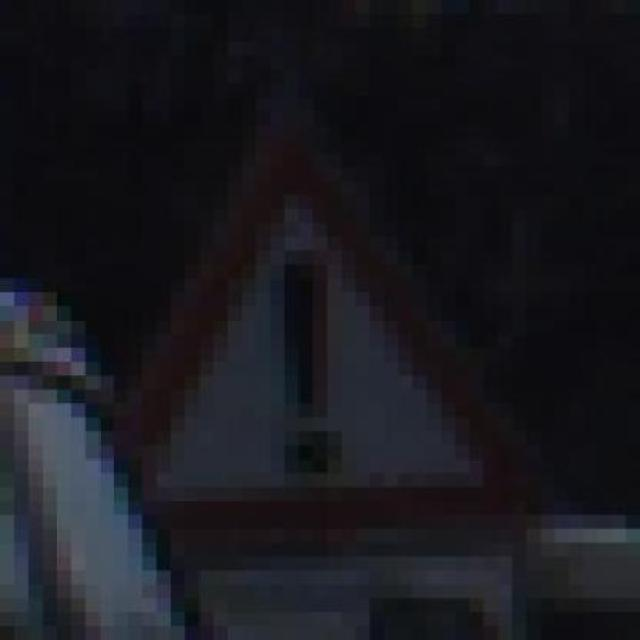Attention Please-: (86, 83, 554, 599)
